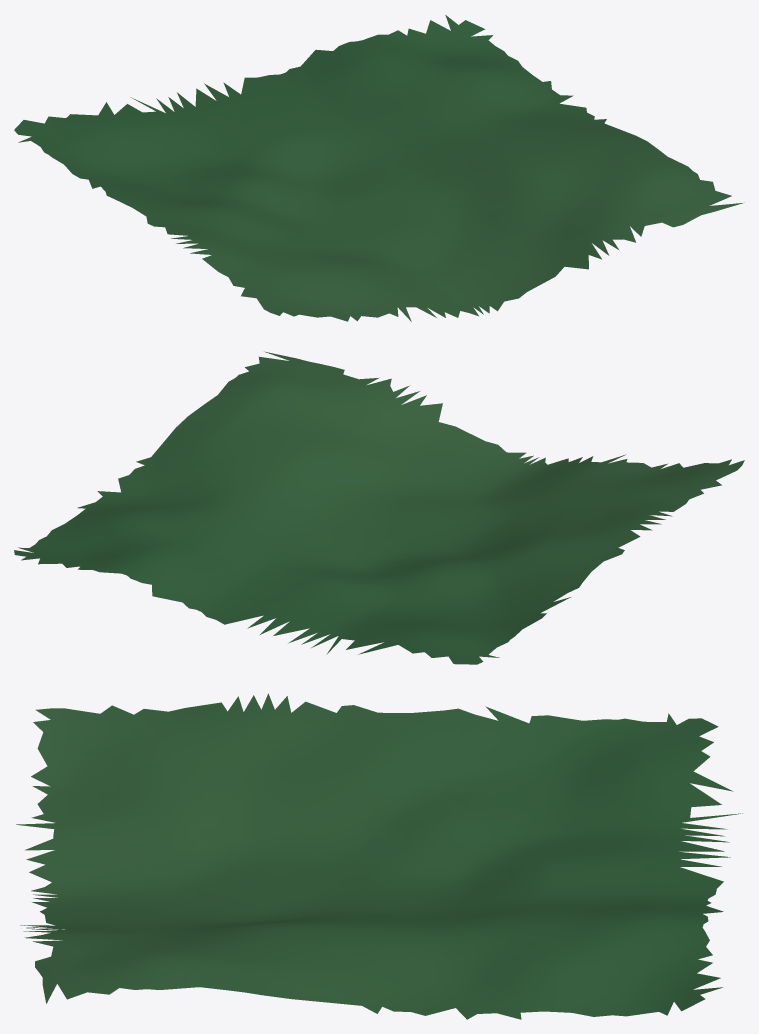
The model's file is payo_land_x2_y7.glb.
The picture shows the model from 3 angles, top to bottom: view 1: azimuth 30°, elevation 25°; view 2: azimuth 150°, elevation 25°; view 3: azimuth 270°, elevation 25°; orthographic projection. The views are drawn at different scales.
Visible parts, largest first — view 1: payo_land_x2_y7; view 2: payo_land_x2_y7; view 3: payo_land_x2_y7.
Boxes of the visible parts, <box> form: payo_land_x2_y7: <box>14,15,744,321</box>; payo_land_x2_y7: <box>14,351,744,664</box>; payo_land_x2_y7: <box>16,693,742,1019</box>.
Size of the model in its own units: 270 by 29.37 by 281.
